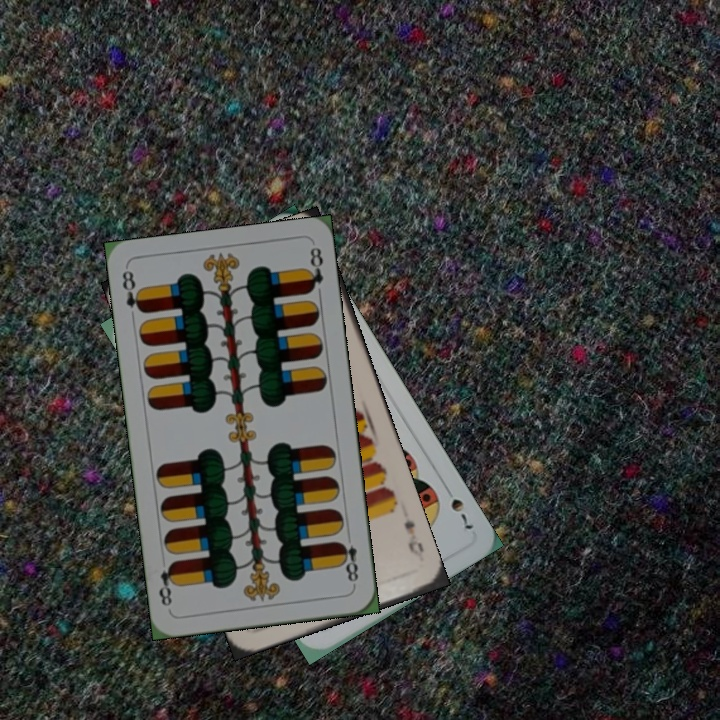E8: (335, 530, 361, 589), (118, 266, 147, 315)
E9: (400, 515, 427, 565)
S7: (440, 481, 476, 535)
